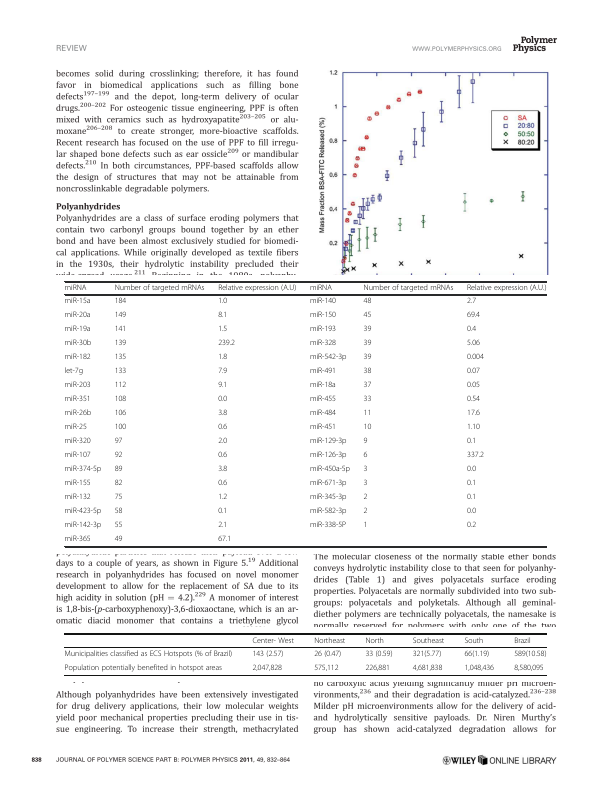borderless: (63, 280, 546, 546), (64, 632, 547, 675)
cell: (64, 649, 233, 659), (64, 663, 223, 673), (362, 284, 454, 293), (114, 284, 205, 293), (466, 284, 547, 293), (217, 284, 297, 293), (309, 465, 351, 475), (251, 636, 295, 645), (309, 353, 347, 363), (309, 437, 347, 447), (309, 451, 347, 461), (64, 465, 102, 475), (309, 479, 347, 489), (309, 493, 347, 503), (64, 507, 102, 517), (309, 507, 347, 517), (64, 521, 102, 531), (309, 521, 347, 531), (513, 649, 547, 659), (251, 649, 284, 659), (251, 663, 283, 673), (463, 663, 495, 673), (513, 663, 545, 673), (412, 663, 443, 673), (412, 649, 442, 659), (313, 636, 346, 645), (412, 636, 445, 645), (313, 649, 342, 659), (364, 649, 393, 659), (309, 297, 337, 307), (309, 311, 337, 321), (309, 325, 337, 335), (64, 339, 92, 349), (309, 339, 337, 349), (309, 367, 337, 377), (309, 381, 337, 391), (309, 395, 337, 405), (64, 409, 92, 419), (309, 409, 337, 419), (309, 423, 337, 433), (463, 649, 490, 659), (364, 663, 391, 673), (64, 297, 91, 307), (64, 311, 91, 321), (64, 325, 91, 335), (64, 353, 91, 363), (64, 381, 91, 391), (64, 395, 91, 405), (64, 437, 91, 447), (64, 451, 91, 461), (64, 479, 91, 489), (64, 493, 91, 503), (64, 535, 91, 545), (313, 663, 339, 673), (64, 423, 88, 433), (309, 284, 333, 293), (64, 284, 87, 293), (64, 367, 84, 377), (217, 339, 236, 349), (466, 353, 485, 363), (466, 451, 485, 461), (364, 636, 385, 645), (463, 636, 484, 645), (513, 636, 532, 645), (466, 311, 481, 321), (466, 339, 481, 349), (466, 367, 481, 377), (466, 381, 481, 391), (466, 395, 481, 405), (466, 409, 481, 419), (466, 423, 481, 433), (217, 535, 232, 545), (114, 297, 127, 307), (114, 311, 127, 321), (114, 325, 127, 335), (114, 339, 127, 349), (114, 353, 127, 363), (114, 367, 127, 377), (114, 381, 127, 391), (114, 395, 127, 405), (114, 409, 127, 419), (114, 423, 127, 433), (217, 297, 228, 307), (466, 297, 477, 307), (217, 311, 228, 321), (217, 325, 228, 335), (466, 325, 477, 335), (217, 353, 228, 363), (217, 367, 228, 377), (217, 381, 228, 391), (217, 395, 228, 405), (217, 409, 228, 419), (217, 423, 228, 433), (217, 437, 228, 447), (466, 437, 477, 447), (217, 451, 228, 461), (217, 465, 228, 475), (466, 465, 477, 475), (217, 479, 228, 489), (466, 479, 477, 489), (217, 493, 228, 503), (466, 493, 477, 503), (217, 507, 228, 517), (466, 507, 477, 517), (217, 521, 228, 531), (466, 521, 477, 531), (362, 297, 372, 307), (362, 311, 372, 321), (362, 325, 372, 335), (362, 339, 372, 349), (362, 353, 372, 363), (362, 367, 372, 377), (362, 381, 372, 391), (362, 395, 372, 405), (362, 409, 372, 419), (362, 423, 372, 433), (114, 437, 123, 447), (114, 451, 123, 461), (114, 465, 123, 475), (114, 479, 123, 489), (114, 493, 123, 503), (114, 507, 123, 517), (114, 521, 123, 531), (114, 535, 123, 545), (362, 437, 368, 447), (362, 451, 368, 461), (362, 465, 368, 475), (362, 479, 368, 489), (362, 493, 368, 503), (362, 507, 368, 517), (362, 521, 368, 531)
